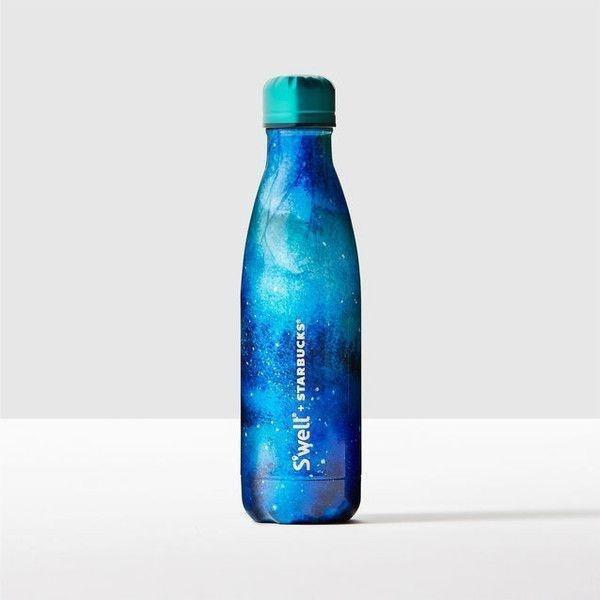gym bottle: (235, 76, 368, 525)
